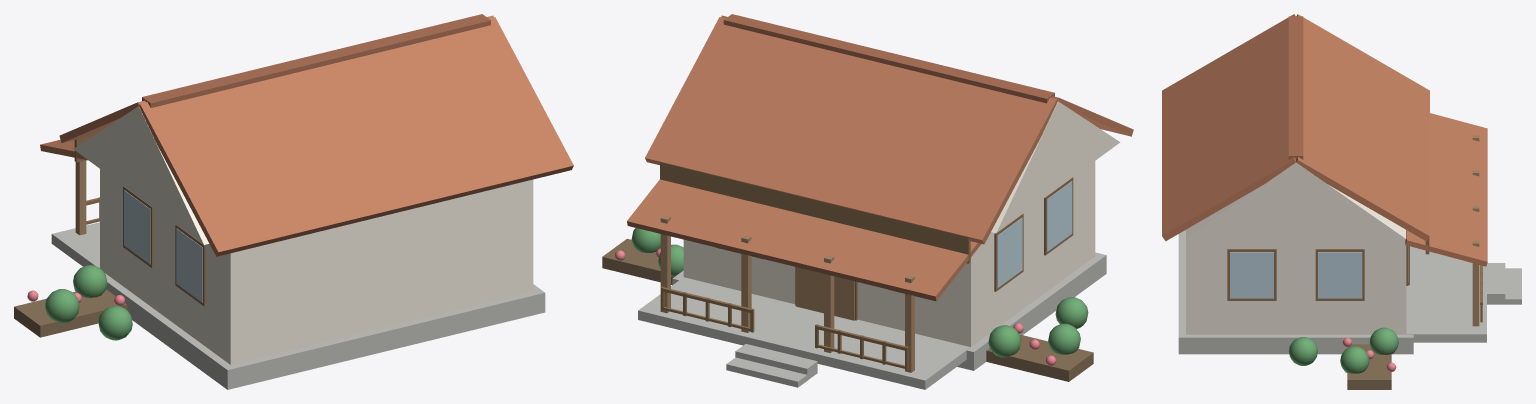
The model's file is rumah-tradisional-v1.glb.
The picture shows the model from 3 angles, left to right: view 1: azimuth 30°, elevation 25°; view 2: azimuth 150°, elevation 25°; view 3: azimuth 270°, elevation 25°; orthographic projection. The views are drawn at different scales.
Visible parts, largest first — view 1: RoofTile, Walls, StoneBase, Glass, Plants, TerraceBase, GardenSoil, WoodTrim, TerraceRoof; view 2: RoofTile, Walls, TerraceRoof, TerraceBase, GardenSoil, Plants, WoodTrim, StoneBase, Glass, Steps, Railing; view 3: RoofTile, Walls, TerraceRoof, TerraceBase, StoneBase, Glass, Plants, Steps, WoodTrim, GardenSoil.
Part boxes in pixels (bbox=[...]): RoofTile: bbox=[59, 14, 573, 256]; Walls: bbox=[73, 106, 533, 364]; StoneBase: bbox=[105, 273, 545, 389]; Glass: bbox=[124, 190, 202, 302]; Plants: bbox=[45, 265, 132, 340]; TerraceBase: bbox=[51, 160, 99, 267]; GardenSoil: bbox=[14, 289, 127, 337]; WoodTrim: bbox=[123, 186, 205, 306]; TerraceRoof: bbox=[40, 139, 87, 160]; RoofTile: bbox=[645, 14, 1133, 263]; Walls: bbox=[683, 101, 1120, 346]; TerraceRoof: bbox=[627, 179, 981, 301]; TerraceBase: bbox=[638, 215, 970, 389]; GardenSoil: bbox=[602, 238, 1093, 381]; Plants: bbox=[631, 228, 1088, 357]; WoodTrim: bbox=[716, 177, 1073, 320]; StoneBase: bbox=[672, 252, 1106, 370]; Glass: bbox=[997, 181, 1072, 288]; Steps: bbox=[726, 344, 817, 387]; Railing: bbox=[660, 286, 908, 370]; RoofTile: bbox=[1162, 14, 1429, 254]; Walls: bbox=[1186, 162, 1406, 334]; TerraceRoof: bbox=[1405, 113, 1487, 266]; TerraceBase: bbox=[1406, 135, 1486, 342]; StoneBase: bbox=[1178, 230, 1413, 354]; Glass: bbox=[1230, 246, 1408, 298]; Plants: bbox=[1288, 327, 1398, 373]; Steps: bbox=[1487, 263, 1521, 304]; WoodTrim: bbox=[1227, 245, 1409, 300]; GardenSoil: bbox=[1347, 344, 1391, 389].
Size of the model in its own units: 13 by 6.1 by 9.8.
